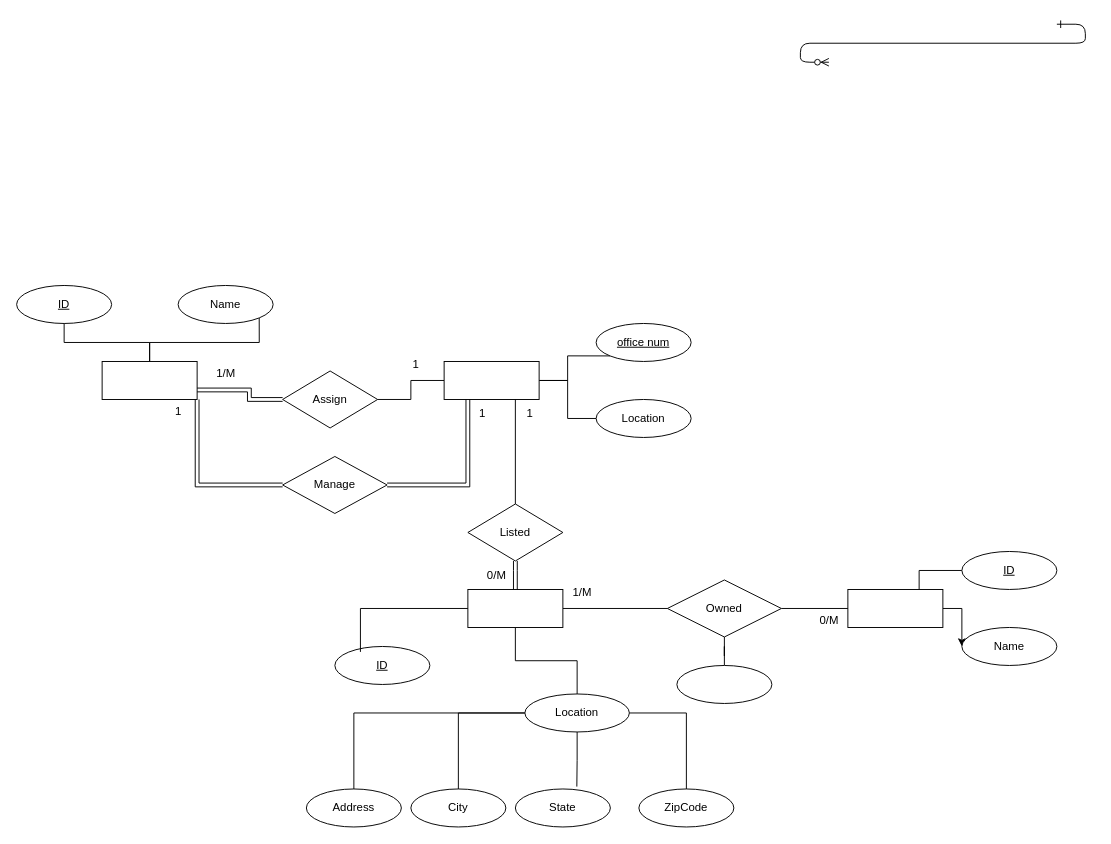
The diagram is 1111 pixels wide and 844 high, and some of its shapes have lost their labels. The shapes that lost their labels are listed below. From the top down, each one's centre as x and y in pixels, then its label:
the point at 149,380: Employee
the point at 491,380: Sales Office
the point at 515,608: property
the point at 895,608: Owner
the point at 724,684: Percent
